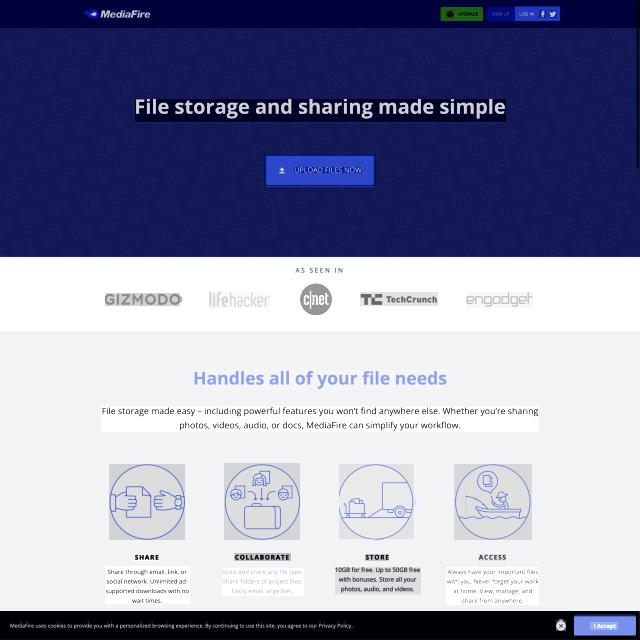CheckBox: (264, 154, 376, 186), (574, 616, 636, 636), (515, 6, 560, 21), (440, 7, 484, 21), (488, 6, 514, 21)
Input field: (101, 406, 539, 432), (446, 567, 539, 605), (105, 566, 190, 604), (335, 568, 421, 596), (10, 623, 354, 630), (222, 568, 304, 596)
bag: (0, 0, 640, 28)
breadcrumbs: (194, 370, 446, 390), (234, 553, 291, 561), (478, 554, 506, 561), (134, 554, 159, 561), (365, 554, 389, 561)
carousel: (556, 621, 566, 631), (446, 10, 454, 18), (279, 167, 285, 174)
content: (454, 464, 532, 540), (224, 463, 300, 540), (109, 464, 185, 540), (340, 464, 416, 539)
data feed: (294, 167, 362, 173), (590, 622, 618, 630), (458, 11, 479, 17), (491, 11, 510, 17), (519, 12, 534, 16)
date picker: (210, 291, 272, 309), (360, 292, 438, 306), (300, 282, 332, 316), (466, 292, 533, 308), (106, 293, 182, 306), (82, 8, 151, 22)
header: (0, 612, 639, 640)
image: (135, 100, 506, 124)
